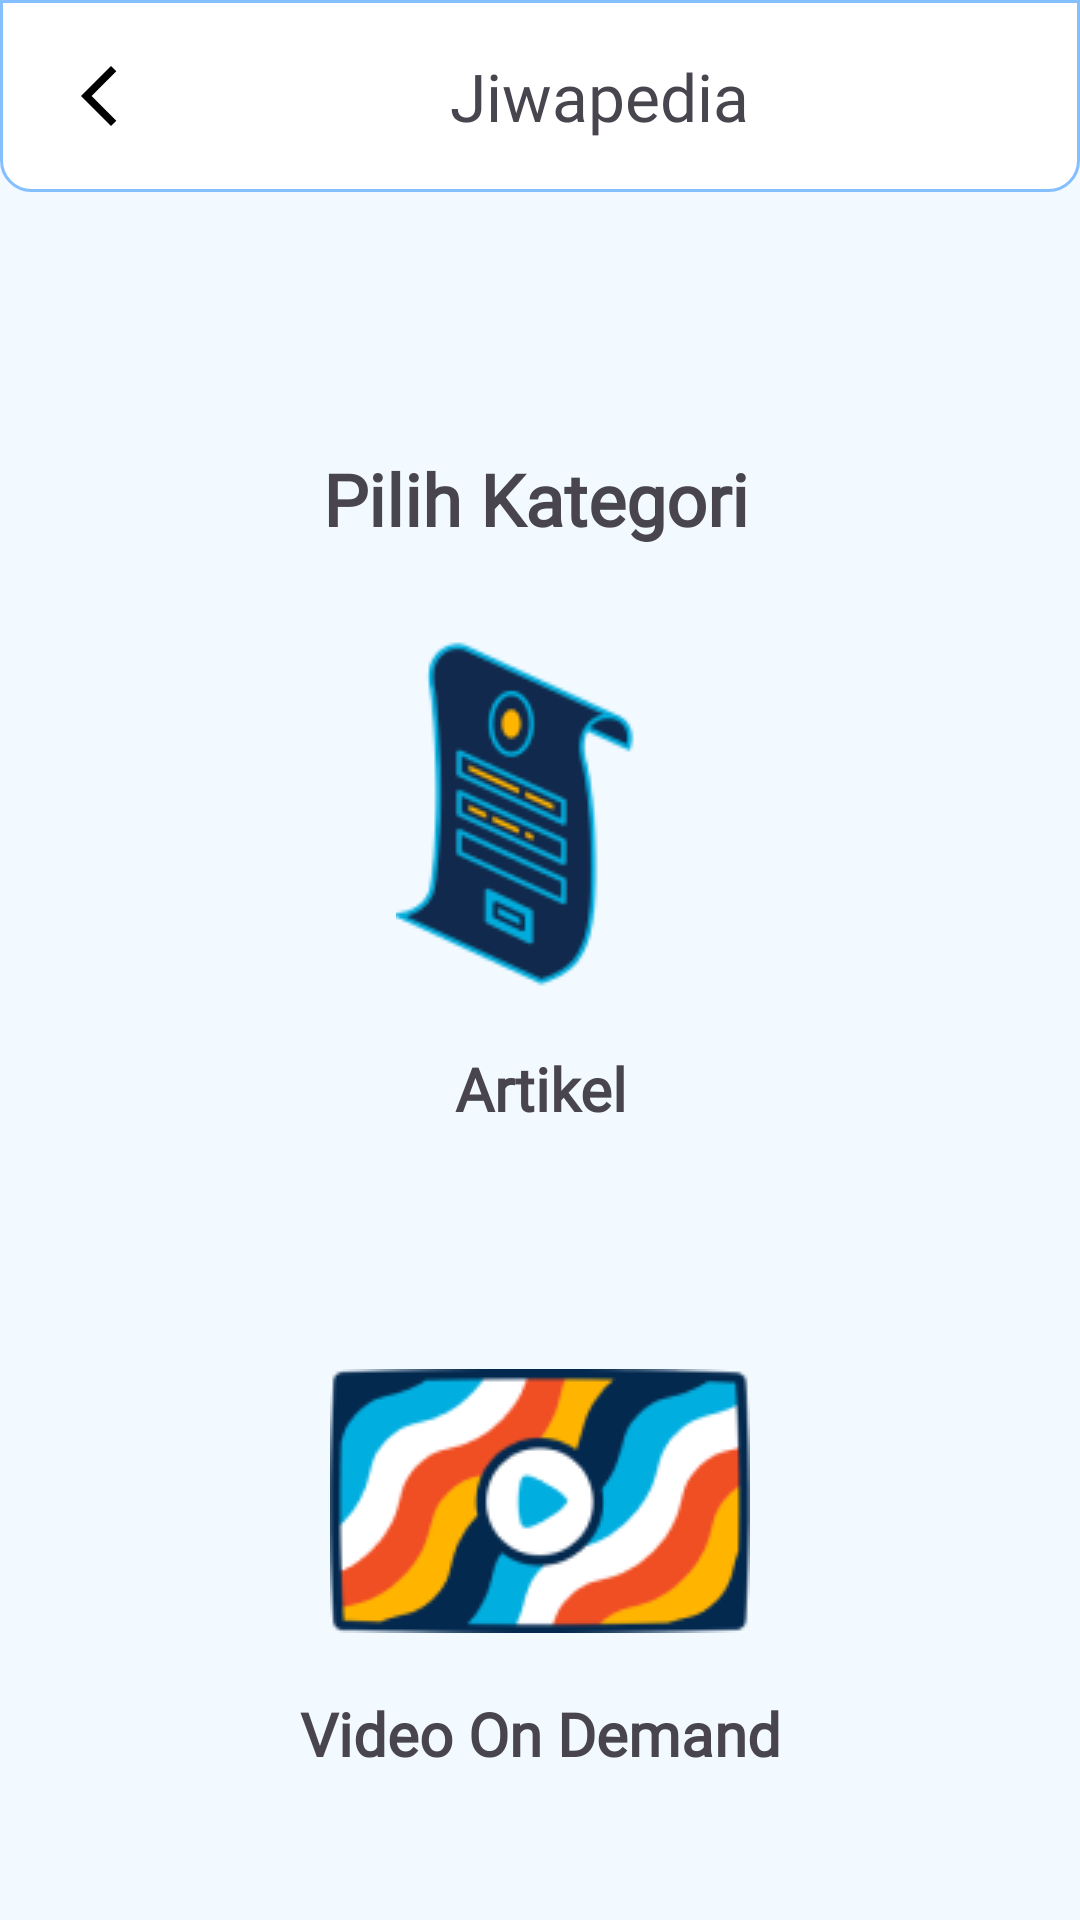

Named icons in this screenshot (1080 × 1920) and their bounding boxes, (x1, y1, x2, y2):
kembali: (81, 66, 116, 126)
